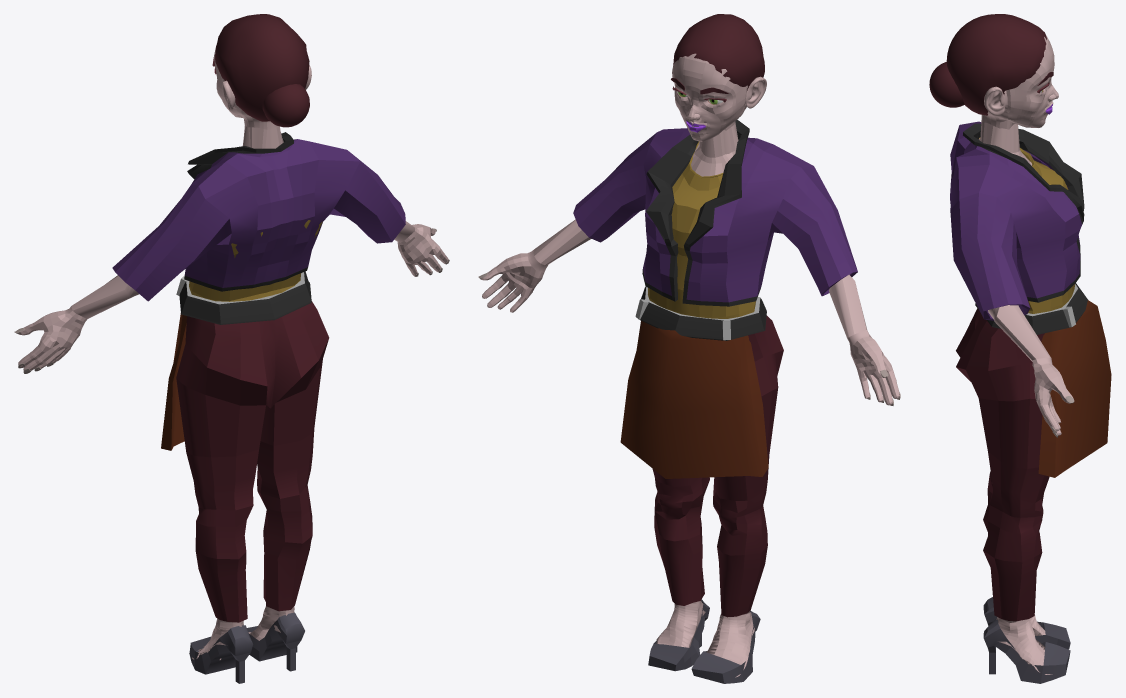
File: Bartender 1.fbx
The picture shows the model from 3 angles, left to right: view 1: azimuth 30°, elevation 25°; view 2: azimuth 150°, elevation 25°; view 3: azimuth 270°, elevation 25°; orthographic projection. The views are drawn at different scales.
Parts seen in each view (by area): view 1: Pants, Jacket, Body, Hair, Apron, HairPun, Shirt; view 2: Jacket, Apron, Body, Pants, Hair, Shirt; view 3: Jacket, Pants, Body, Apron, Hair, Shirt, HairPun.
Boxes of the visible parts, x1,y1,x2,y2 form: Pants: (176,301,329,622); Jacket: (112,132,405,301); Body: (14,44,449,683); Hair: (215,14,309,121); Apron: (161,271,311,450); HairPun: (262,84,309,127); Shirt: (189,220,322,301); Jacket: (573,119,857,306); Apron: (620,286,768,478); Body: (478,53,900,683); Pants: (652,315,783,617); Hair: (673,14,764,90); Shirt: (648,141,755,318); Jacket: (950,121,1084,320); Pants: (956,308,1049,621); Body: (978,35,1074,683); Apron: (975,283,1111,477); Hair: (946,14,1046,115); Shirt: (979,137,1075,313); HairPun: (929,62,964,107).
Bounding box in the file's own units: 7.41 × 10.77 × 2.76.
